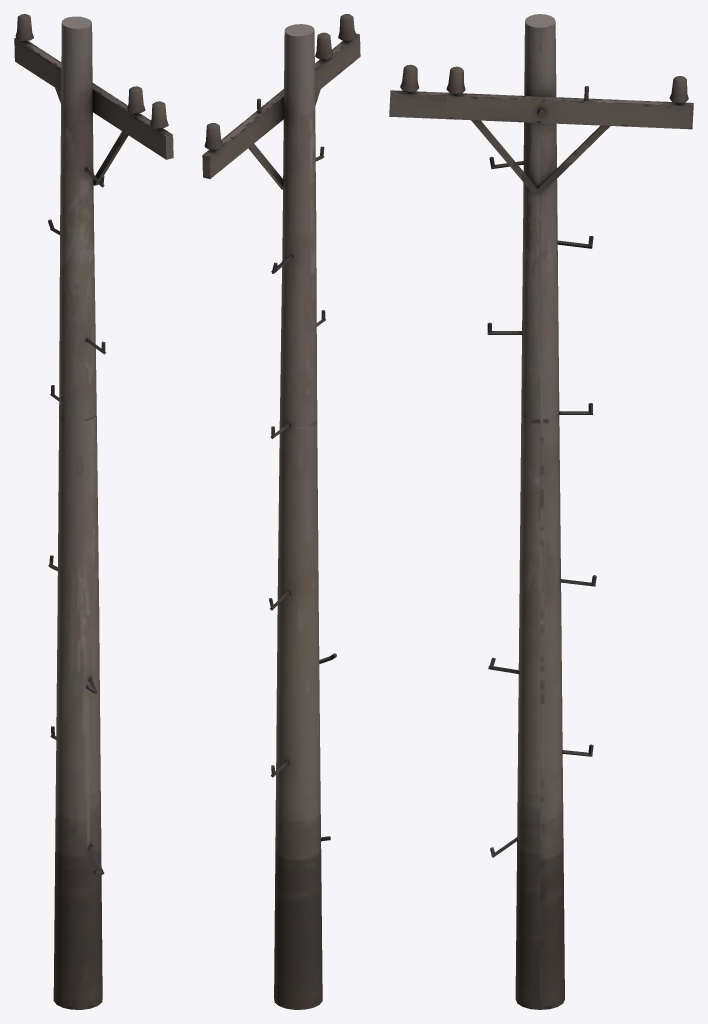
The picture shows the model from 3 angles, left to right: view 1: azimuth 30°, elevation 25°; view 2: azimuth 150°, elevation 25°; view 3: azimuth 270°, elevation 25°; orthographic projection.
Parts seen in each view (by area): view 1: body0_model0_lod0_mesh0; view 2: body0_model0_lod0_mesh0; view 3: body0_model0_lod0_mesh0.
Boxes of the visible parts, left/top/right/bottom form: body0_model0_lod0_mesh0: left=14, top=14, right=173, bottom=1009; body0_model0_lod0_mesh0: left=202, top=14, right=360, bottom=1009; body0_model0_lod0_mesh0: left=389, top=14, right=693, bottom=1009.
Size of the model in its own units: 26.7 by 512 by 144.
1 material, 1 textured.
